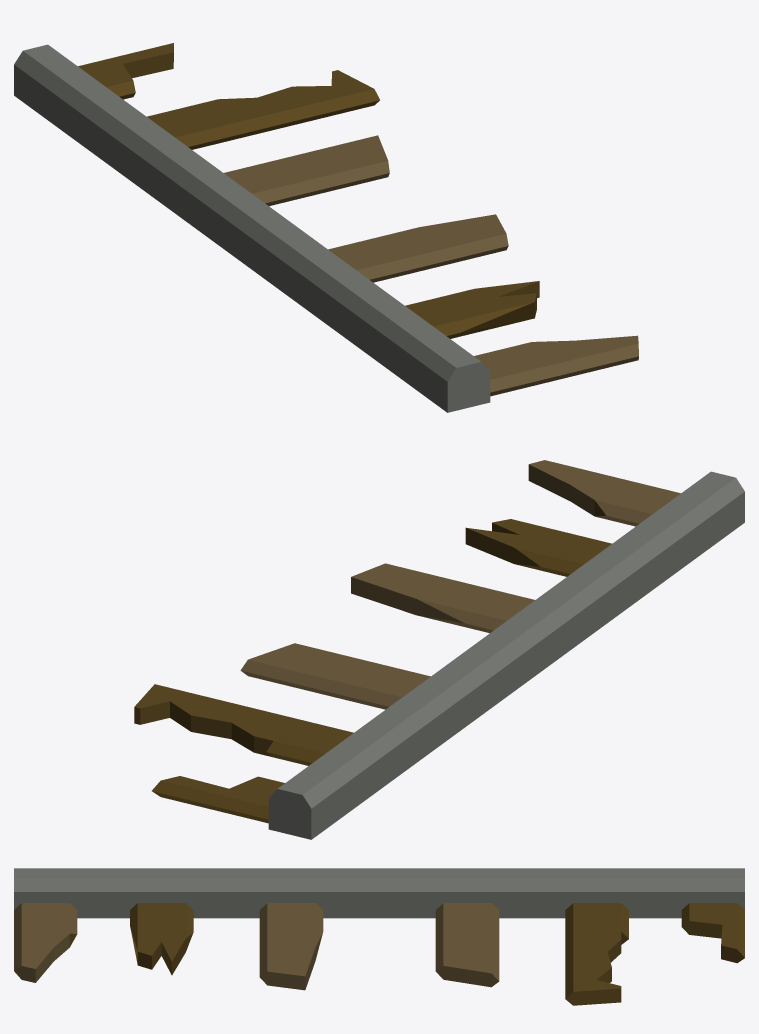
Rendered from Rails destroy 2.fbx.
3 renders of one model, top to bottom at view 1: azimuth 30°, elevation 25°; view 2: azimuth 150°, elevation 25°; view 3: azimuth 270°, elevation 25°, orthographic. The views are drawn at different scales.
Parts seen in each view (by area): view 1: Cube.002; view 2: Cube.002; view 3: Cube.002.
Part boxes in pixels (bbox=[...]): Cube.002: bbox=[14, 43, 638, 412]; Cube.002: bbox=[134, 460, 744, 839]; Cube.002: bbox=[14, 868, 744, 1005].
Bounding box in the file's own units: 186 × 24.61 × 452.
